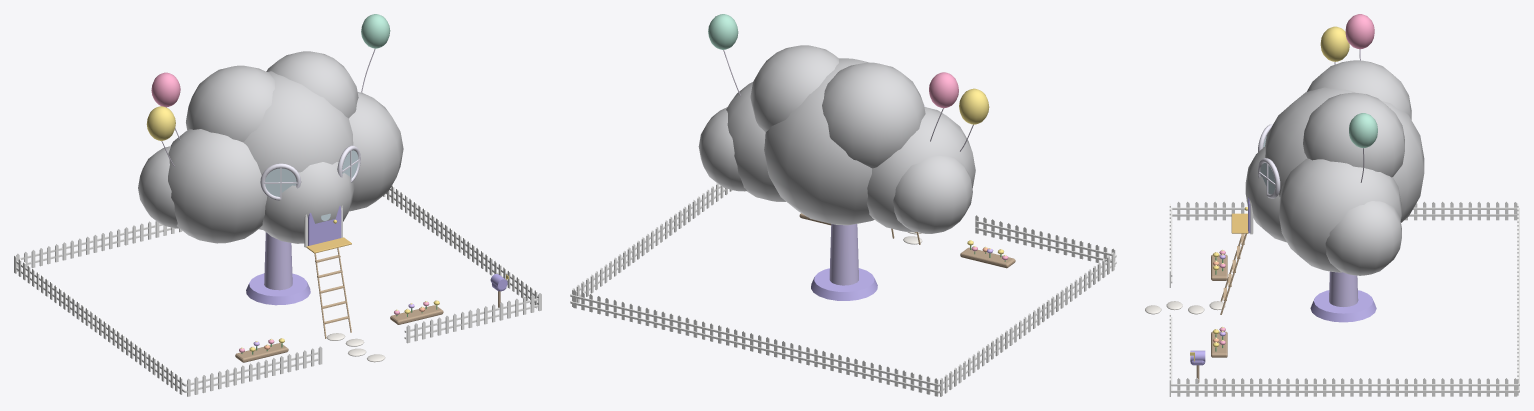
The model's file is building_sky_L07.glb.
3 views of the same model, side by side, from view 1: azimuth 30°, elevation 25°; view 2: azimuth 150°, elevation 25°; view 3: azimuth 270°, elevation 25° (orthographic). The views are drawn at different scales.
Parts seen in each view (by area): view 1: Body, sky_L7; view 2: Body, sky_L7; view 3: Body, sky_L7.
Boxes of the visible parts, <box> form: Body: <box>138,14,403,338</box>; sky_L7: <box>14,185,541,396</box>; Body: <box>698,14,989,300</box>; sky_L7: <box>570,183,1116,396</box>; Body: <box>1220,14,1424,322</box>; sky_L7: <box>1145,201,1519,396</box>.
Bounding box in the file's own units: 25.35 × 16.58 × 22.64.
